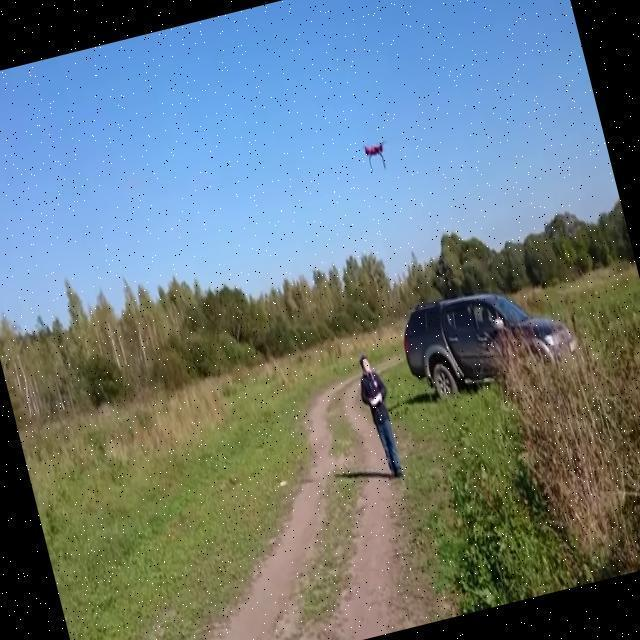Drons: (358, 133, 393, 176)
